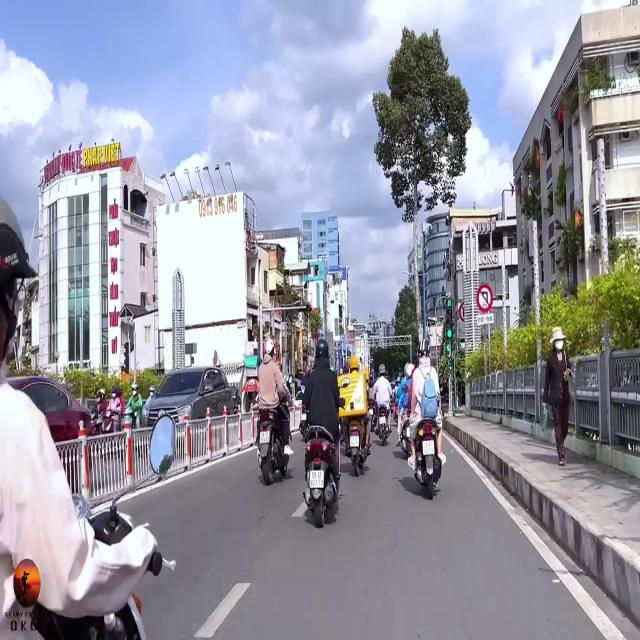bien_trang: (304, 469, 325, 495)
